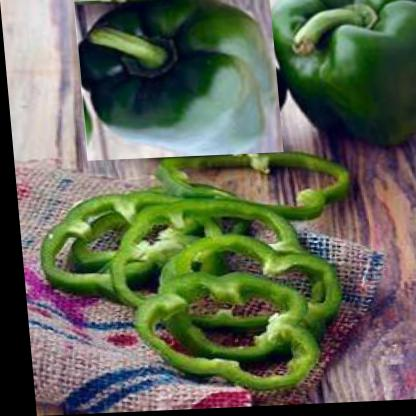capsicum: (73, 0, 282, 162), (258, 0, 415, 156)
